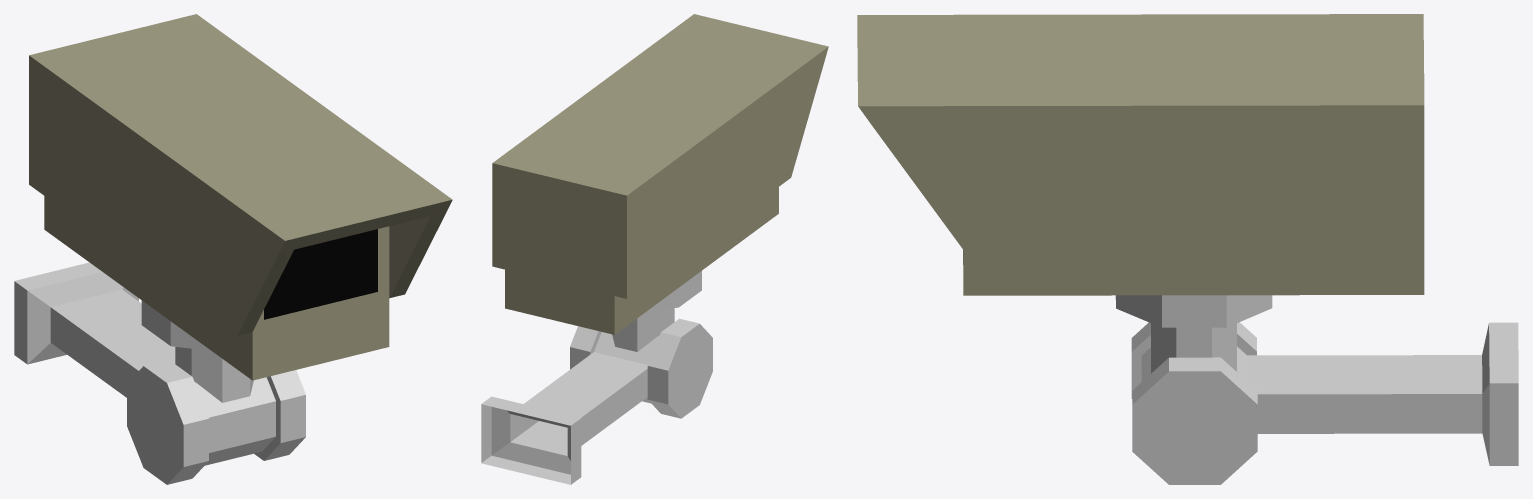
Rendered from CCTV_01.fbx.
3 views of the same model, side by side, from view 1: azimuth 30°, elevation 25°; view 2: azimuth 150°, elevation 25°; view 3: azimuth 270°, elevation 25° (orthographic). The views are drawn at different scales.
Parts seen in each view (by area): view 1: CCTV-Head_01, CCTV-Arm_01, CCTV-Arm_02; view 2: CCTV-Head_01, CCTV-Arm_01, CCTV-Arm_02; view 3: CCTV-Head_01, CCTV-Arm_01, CCTV-Arm_02.
Part boxes in pixels (x1=…): CCTV-Head_01: x1=29, y1=14, x2=452, y2=380; CCTV-Arm_01: x1=14, y1=262, x2=305, y2=484; CCTV-Arm_02: x1=141, y1=300, x2=253, y2=402; CCTV-Head_01: x1=492, y1=14, x2=828, y2=334; CCTV-Arm_01: x1=481, y1=318, x2=712, y2=484; CCTV-Arm_02: x1=612, y1=271, x2=701, y2=351; CCTV-Head_01: x1=857, y1=14, x2=1424, y2=295; CCTV-Arm_01: x1=1131, y1=322, x2=1518, y2=484; CCTV-Arm_02: x1=1115, y1=295, x2=1272, y2=373.
Size of the model in its own units: 0.2858 by 0.5653 by 0.8658.
